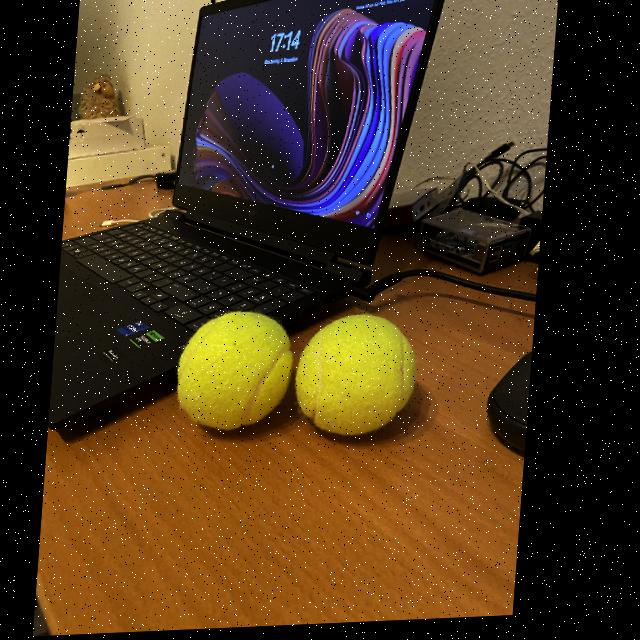Tennisball: (295, 314, 416, 436), (177, 311, 293, 430)
